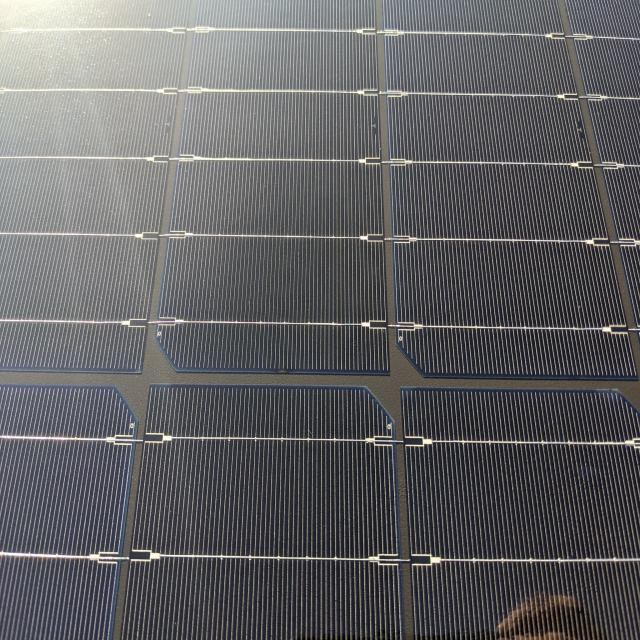clean-solar-panel: (0, 0, 640, 638)
